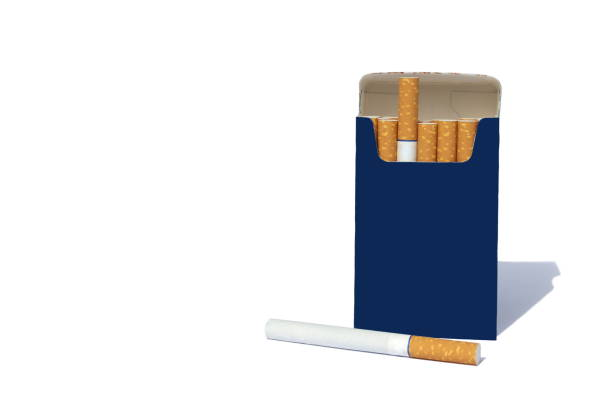cigarette: (346, 69, 498, 340), (263, 312, 482, 368), (397, 76, 418, 162), (456, 119, 479, 161), (436, 119, 458, 162), (416, 121, 438, 162), (377, 116, 396, 161)
